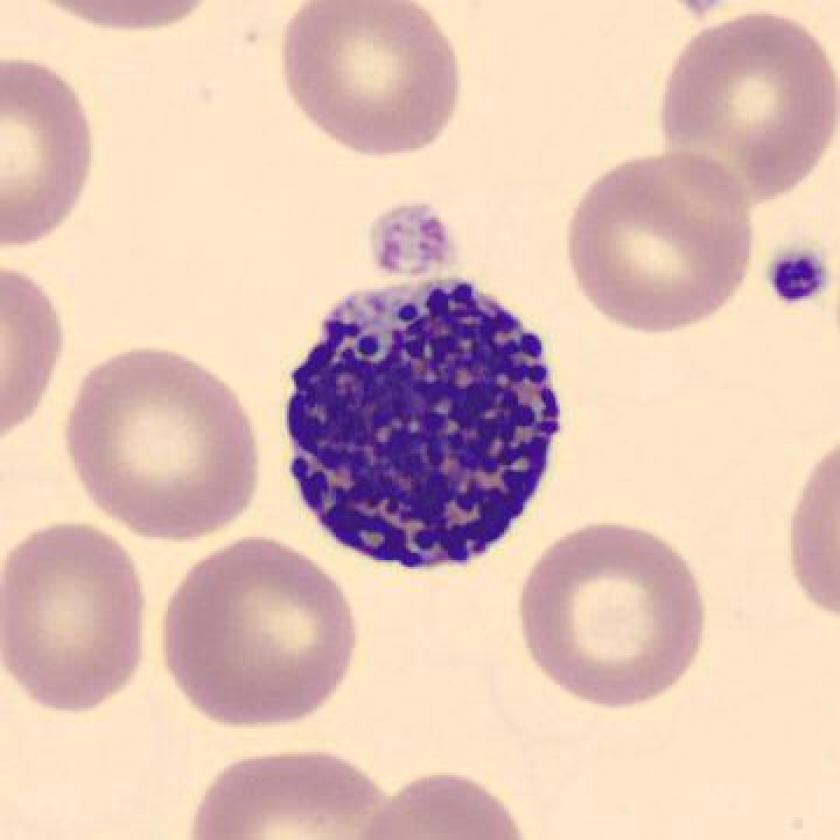basophil: (276, 270, 568, 578)
